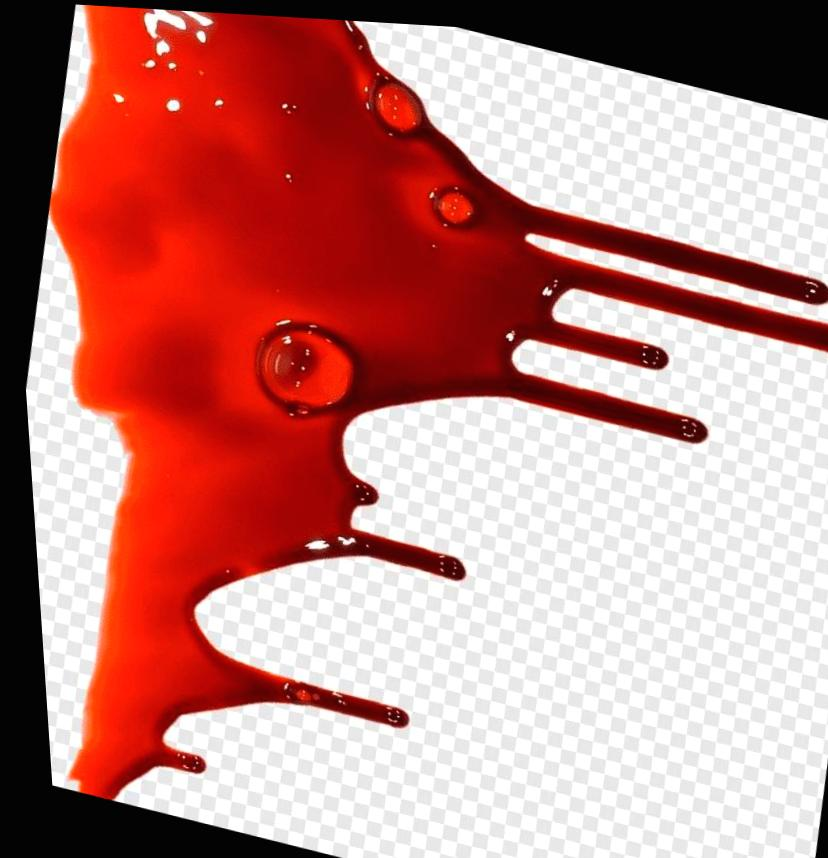Fire: (46, 4, 828, 800)
